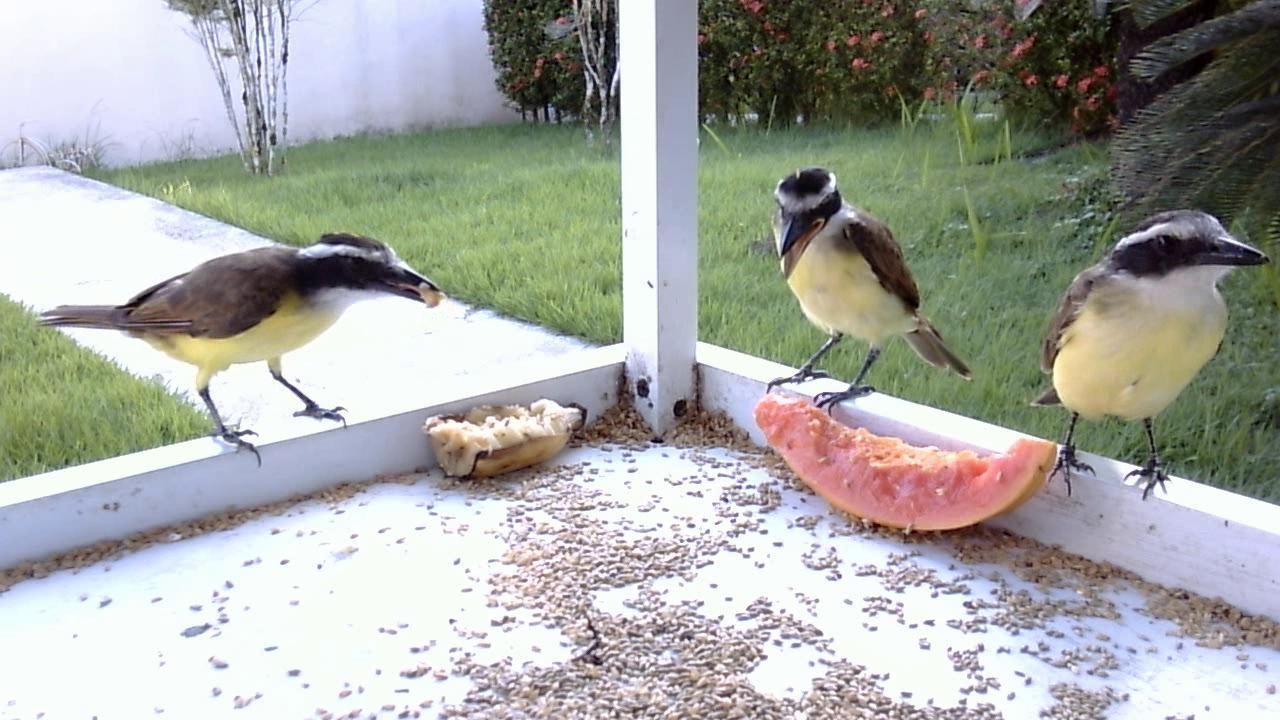bem_te_vi: (18, 211, 454, 474), (1020, 197, 1272, 522), (760, 158, 980, 420)
